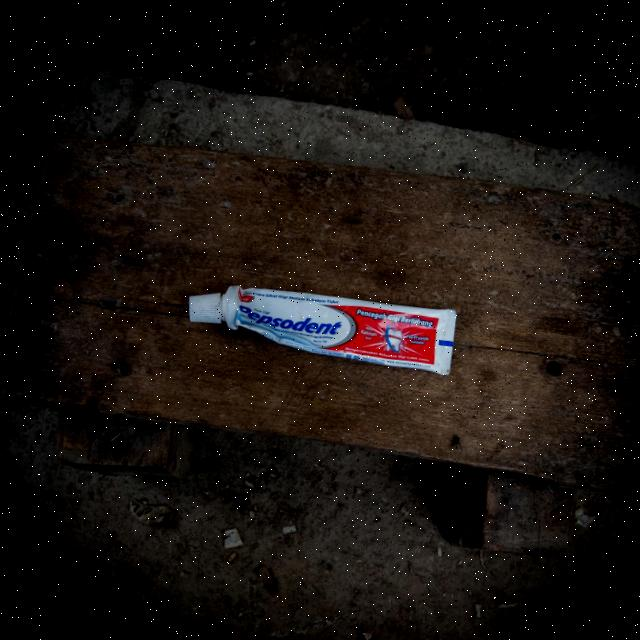Toothpaste: (175, 262, 476, 382)
